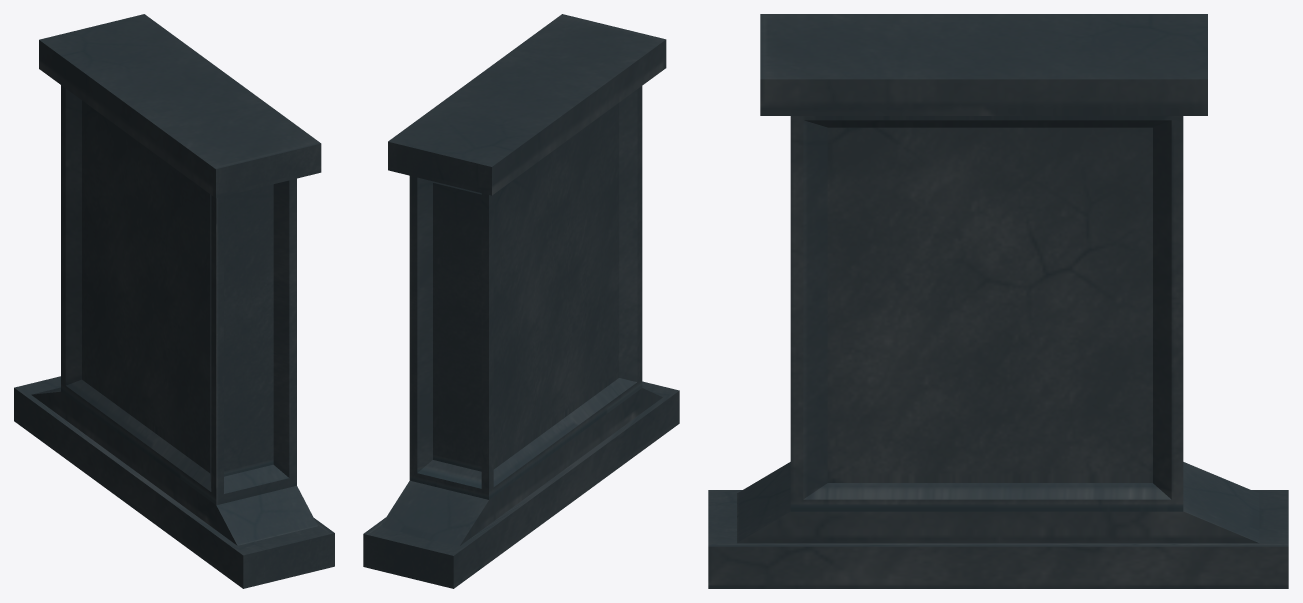
The model's file is Gravestone22_Model.fbx.
3 views of the same model, side by side, from view 1: azimuth 30°, elevation 25°; view 2: azimuth 150°, elevation 25°; view 3: azimuth 270°, elevation 25° (orthographic). The views are drawn at different scales.
Parts seen in each view (by area): view 1: Gravestone22; view 2: Gravestone22; view 3: Gravestone22.
Part boxes in pixels (box(x1,y1,x2,y2)): Gravestone22: box(14, 14, 334, 588); Gravestone22: box(363, 14, 679, 588); Gravestone22: box(708, 14, 1288, 588).
Bounding box in the file's own units: 19.87 × 73.08 × 74.72.
